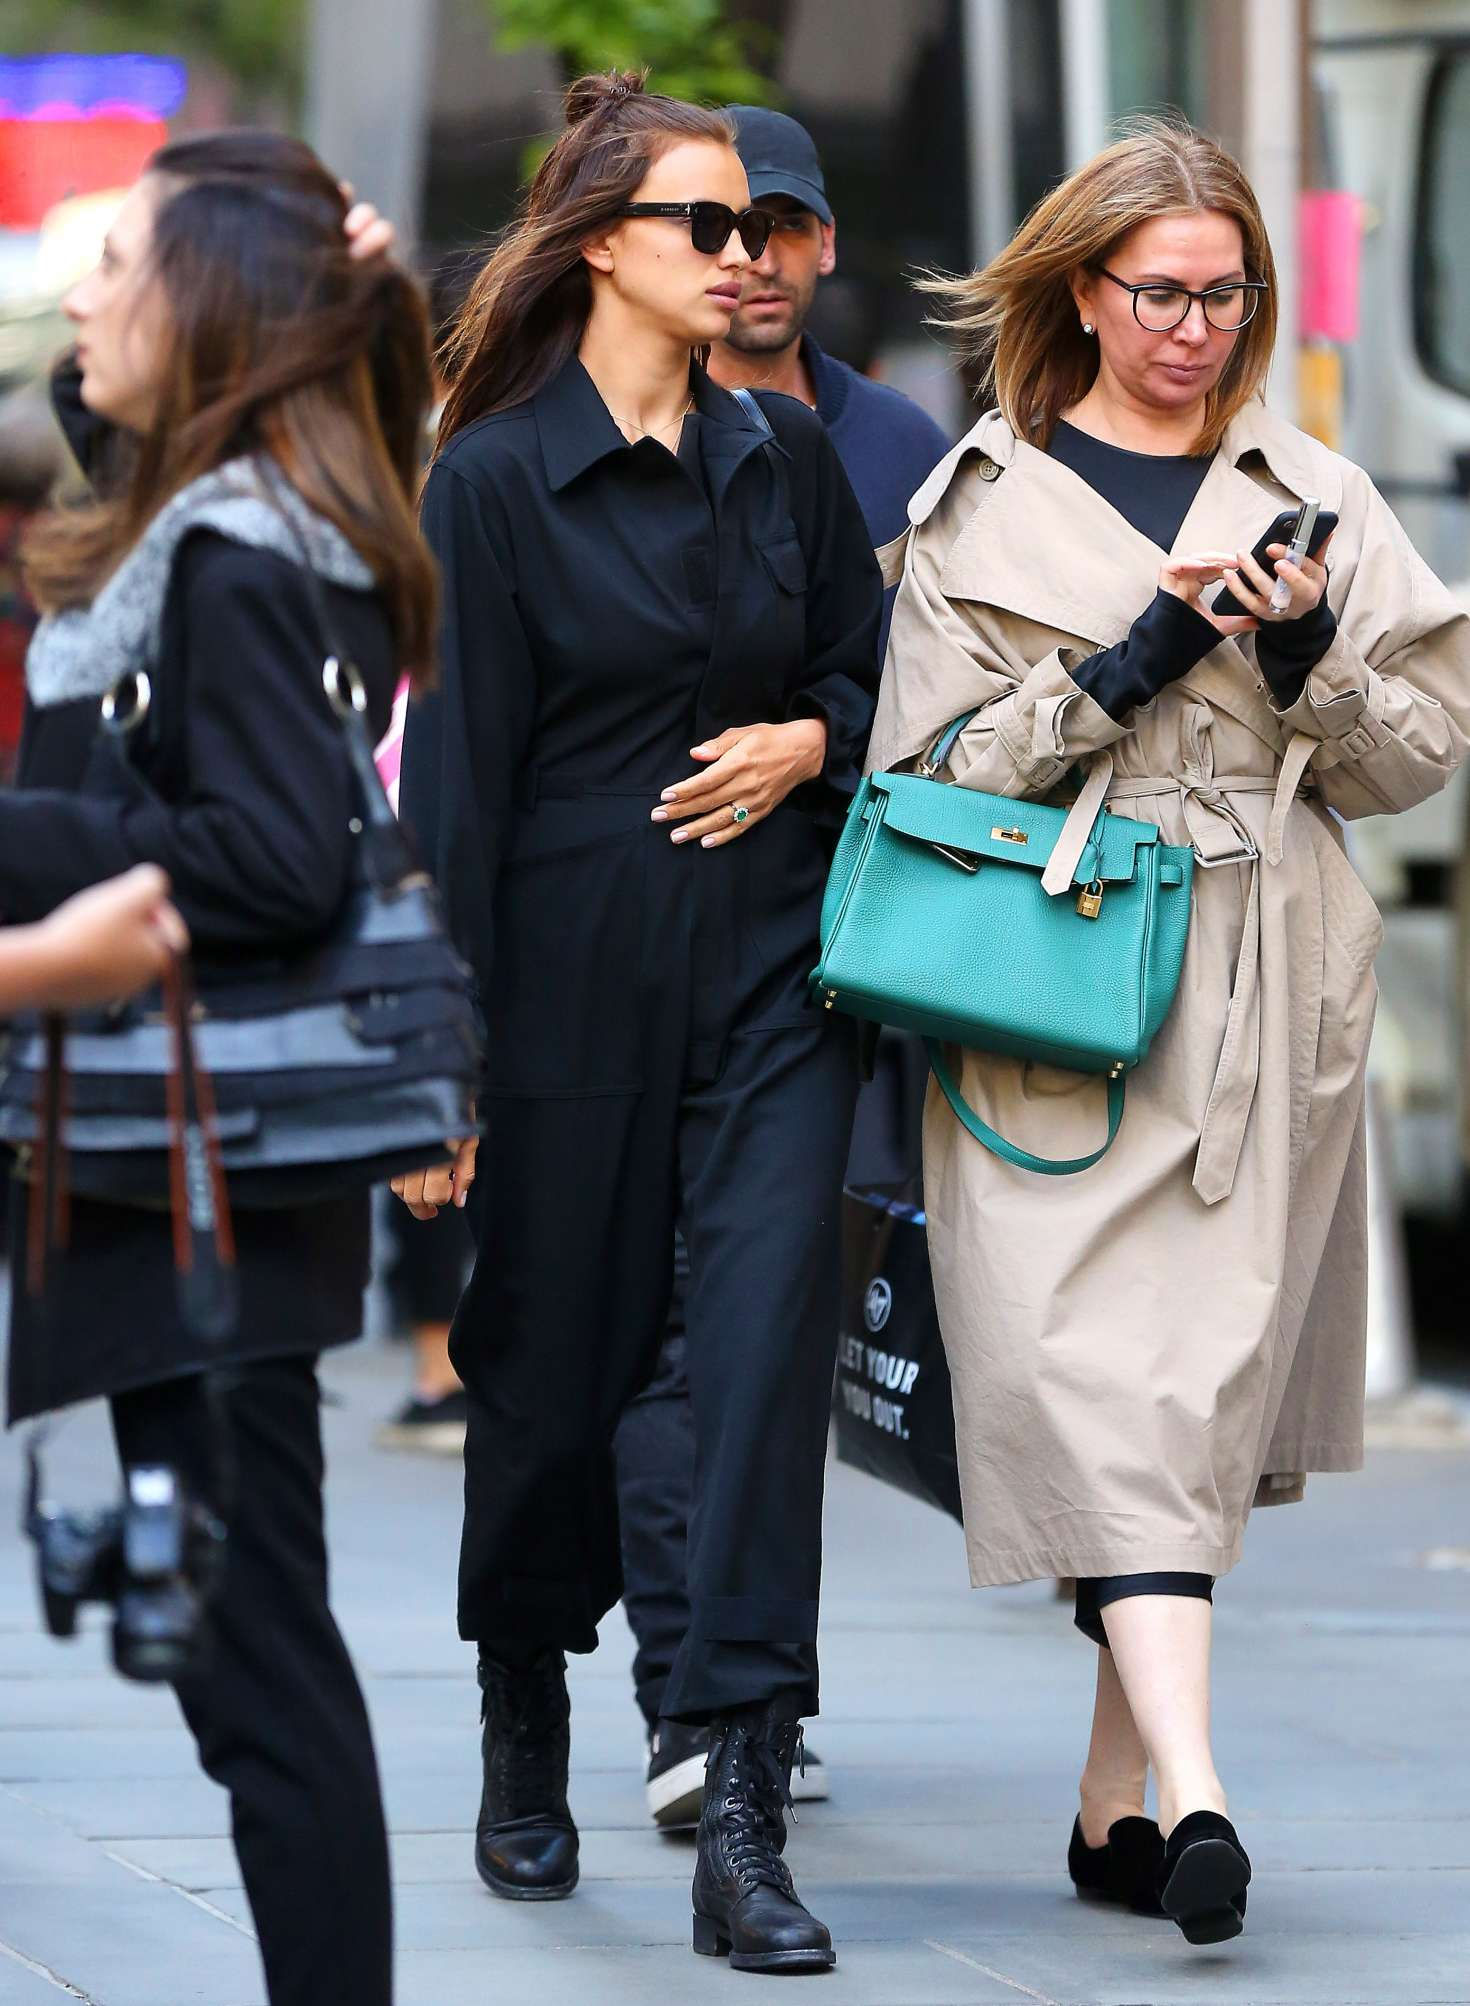Person: (806, 100, 1470, 1949), (391, 58, 876, 1981), (2, 126, 479, 2006)
